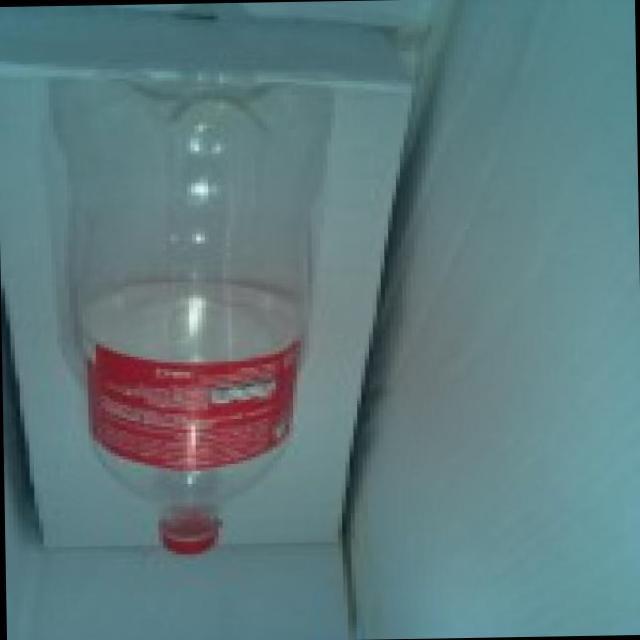good: (45, 48, 368, 565)
